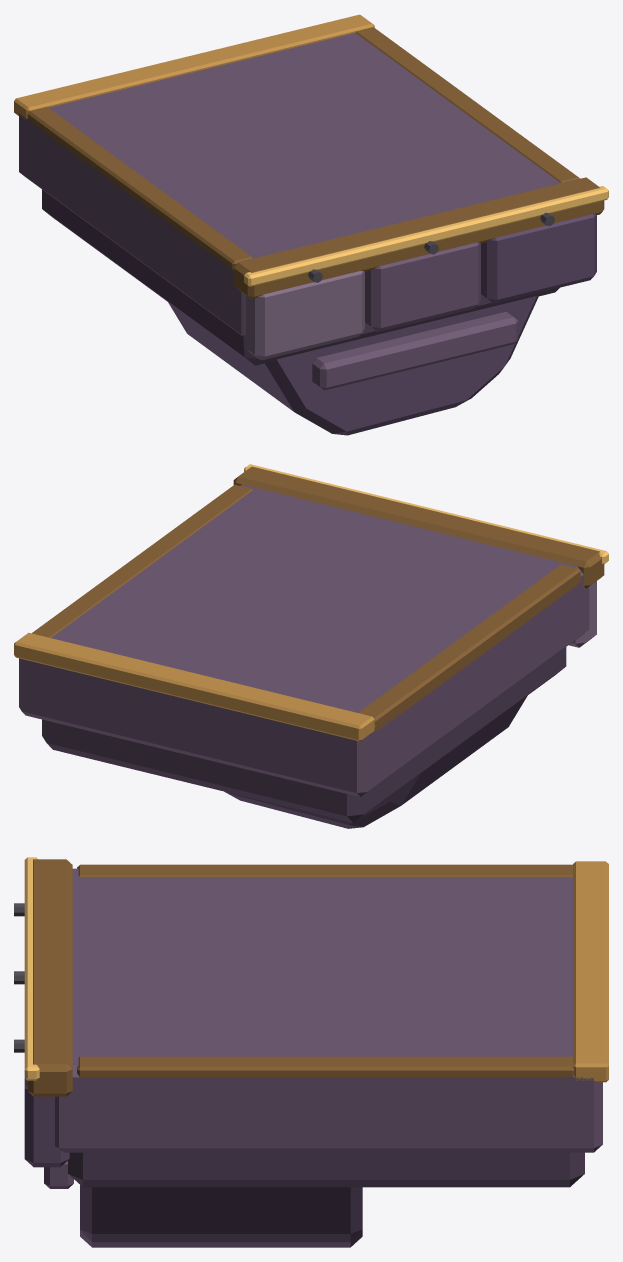
File: SM_Vault_RetakeDeck_08.fbx
3 renders of one model, top to bottom at view 1: azimuth 30°, elevation 25°; view 2: azimuth 150°, elevation 25°; view 3: azimuth 270°, elevation 25°, orthographic. The views are drawn at different scales.
Visible parts, largest first — view 1: SM_Vault_RetakeDeck_08; view 2: SM_Vault_RetakeDeck_08; view 3: SM_Vault_RetakeDeck_08.
Boxes of the visible parts, left/top/right/bottom form: SM_Vault_RetakeDeck_08: left=14, top=14, right=608, bottom=435; SM_Vault_RetakeDeck_08: left=14, top=464, right=608, bottom=828; SM_Vault_RetakeDeck_08: left=14, top=857, right=608, bottom=1247.
Bounding box in the file's own units: 167 × 198 × 92.93.
